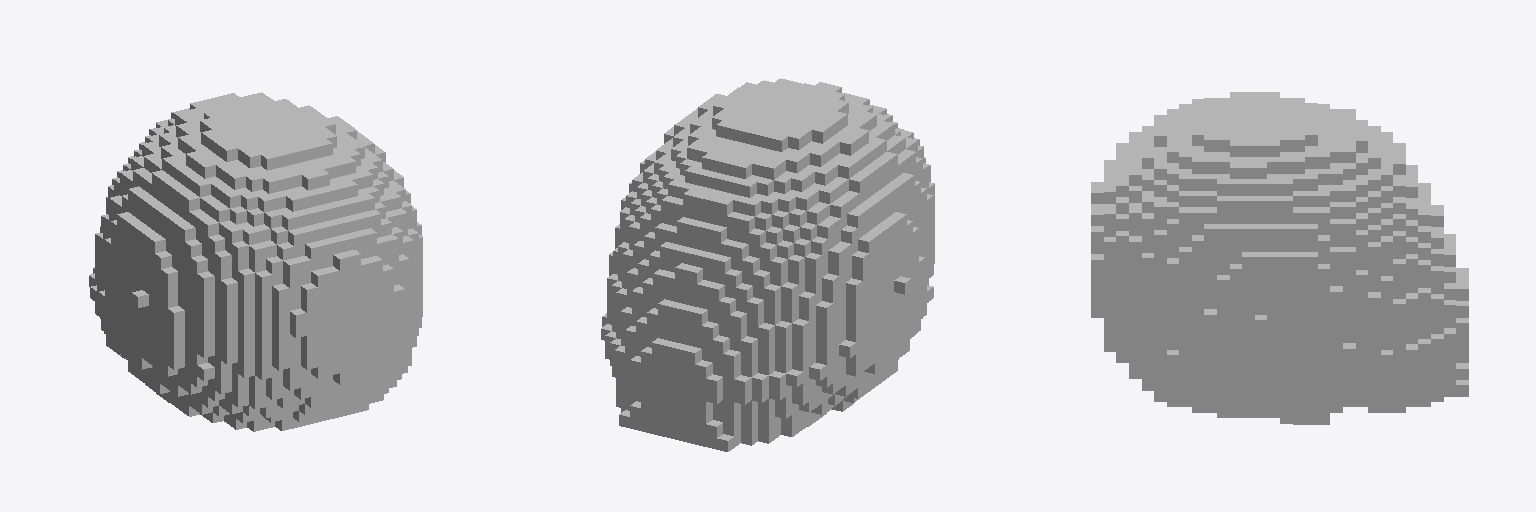
File: helmet.obj
The picture shows the model from 3 angles: view 1: azimuth 30°, elevation 25°; view 2: azimuth 150°, elevation 25°; view 3: azimuth 270°, elevation 25°; orthographic projection.
Parts seen in each view (by area): view 1: object 1; view 2: object 1; view 3: object 1.
Part boxes in pixels (left/top/right/bottom): object 1: left=89, top=92, right=422, bottom=431; object 1: left=601, top=78, right=934, bottom=451; object 1: left=1091, top=92, right=1468, bottom=424.
Bounding box in the file's own units: 2.4 × 2.4 × 3.